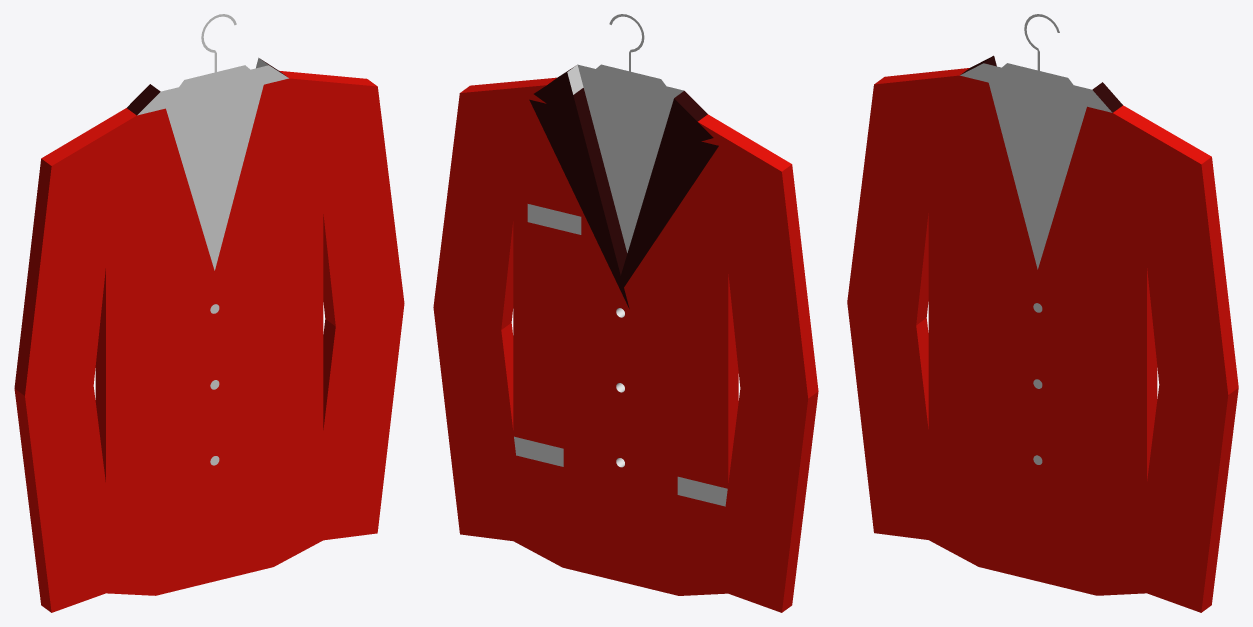
The model's file is jacket-red.dae.
3 views of the same model, side by side, from view 1: azimuth 30°, elevation 25°; view 2: azimuth 150°, elevation 25°; view 3: azimuth 330°, elevation 25° (orthographic).
Visible parts, largest first — view 1: SketchUp_017, SketchUp_003, SketchUp, SketchUp_001, SketchUp_014; view 2: SketchUp_003, SketchUp_008, SketchUp, SketchUp_001, SketchUp_007, SketchUp_010, SketchUp_011, SketchUp_014; view 3: SketchUp_017, SketchUp, SketchUp_004, SketchUp_003, SketchUp_001, SketchUp_014, SketchUp_008.
Boxes of the visible parts, x1,y1,x2,y2 form: SketchUp_017: (25, 78, 404, 612); SketchUp_003: (14, 70, 376, 612); SketchUp: (166, 84, 263, 270); SketchUp_001: (161, 65, 268, 108); SketchUp_014: (179, 14, 249, 86); SketchUp_003: (433, 77, 818, 612); SketchUp_008: (529, 66, 718, 308); SketchUp: (582, 84, 671, 252); SketchUp_001: (577, 64, 683, 105); SketchUp_007: (527, 204, 581, 234); SketchUp_010: (677, 476, 727, 506); SketchUp_011: (514, 436, 563, 466); SketchUp_014: (596, 14, 665, 85); SketchUp_017: (847, 75, 1228, 612); SketchUp: (989, 83, 1086, 269); SketchUp_004: (1201, 157, 1238, 612); SketchUp_003: (874, 68, 1211, 480); SketchUp_001: (983, 63, 1091, 106); SketchUp_014: (1002, 14, 1073, 84); SketchUp_008: (961, 55, 1122, 112).
Bounding box in the file's own units: 0.532 × 0.0254 × 0.7578.
